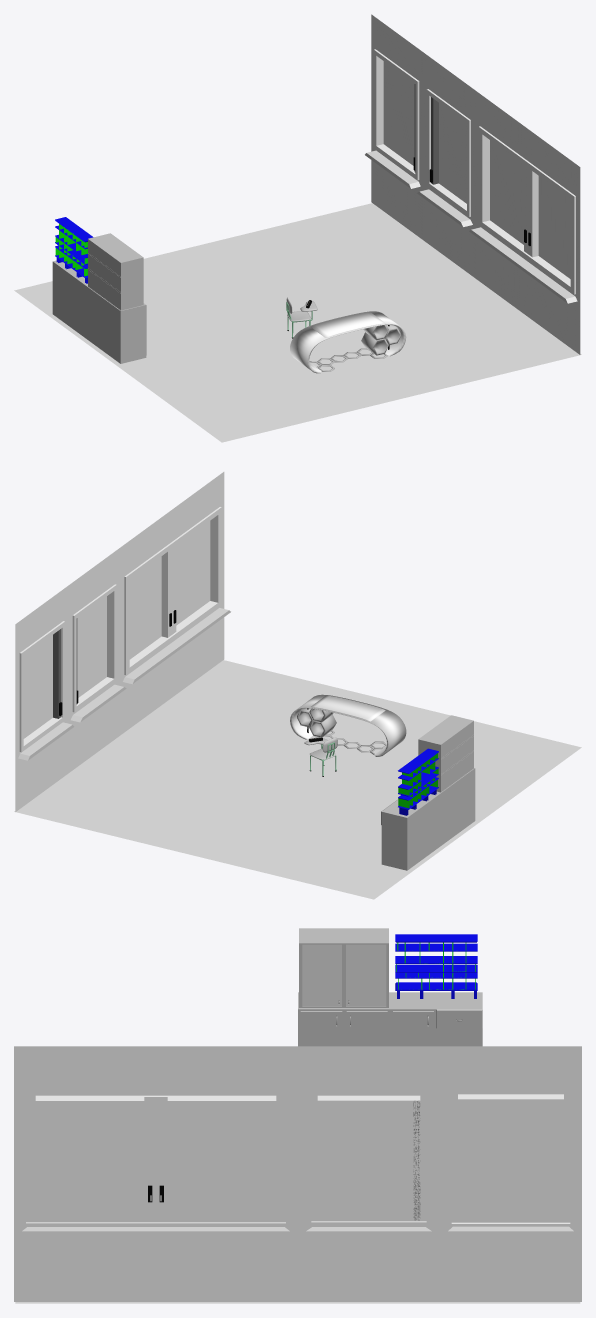
The model's file is ClassBase.fbx.
3 renders of one model, top to bottom at view 1: azimuth 30°, elevation 25°; view 2: azimuth 150°, elevation 25°; view 3: azimuth 270°, elevation 25°, orthographic. The views are drawn at different scales.
Visible parts, largest first — view 1: Plane.006, WindowsWall, CupBoardClean, BottomCabinetClean, ClassDeskHexagon_Clean, Shelves_Clean, Circle.001, Hexagon.003; view 2: Plane.006, WindowsWall, CupBoardClean, BottomCabinetClean, ClassDeskHexagon_Clean, Shelves_Clean, Circle.001, Hexagon.003, ClassChairClean; view 3: WindowsWall, CupBoardClean, BottomCabinetClean, Shelves_Clean, Plane.006.
Part boxes in pixels (bbox=[...]): Plane.006: bbox=[14, 203, 581, 442]; WindowsWall: bbox=[365, 14, 580, 354]; CupBoardClean: bbox=[86, 233, 146, 363]; BottomCabinetClean: bbox=[52, 260, 87, 338]; ClassDeskHexagon_Clean: bbox=[290, 311, 406, 373]; Shelves_Clean: bbox=[55, 217, 93, 283]; Circle.001: bbox=[311, 312, 385, 337]; Hexagon.003: bbox=[361, 325, 400, 355]; Plane.006: bbox=[14, 660, 581, 899]; WindowsWall: bbox=[15, 472, 230, 811]; CupBoardClean: bbox=[418, 715, 475, 845]; BottomCabinetClean: bbox=[381, 792, 441, 870]; ClassDeskHexagon_Clean: bbox=[290, 694, 406, 756]; Shelves_Clean: bbox=[398, 748, 438, 815]; Circle.001: bbox=[311, 695, 385, 721]; Hexagon.003: bbox=[297, 708, 336, 737]; ClassChairClean: bbox=[304, 737, 337, 776]; WindowsWall: bbox=[14, 1046, 581, 1301]; CupBoardClean: bbox=[298, 928, 390, 1046]; BottomCabinetClean: bbox=[390, 992, 482, 1046]; Shelves_Clean: bbox=[395, 934, 477, 998]; Plane.006: bbox=[15, 1302, 580, 1303].
Bounding box in the file's own units: 729 × 361 × 725.
